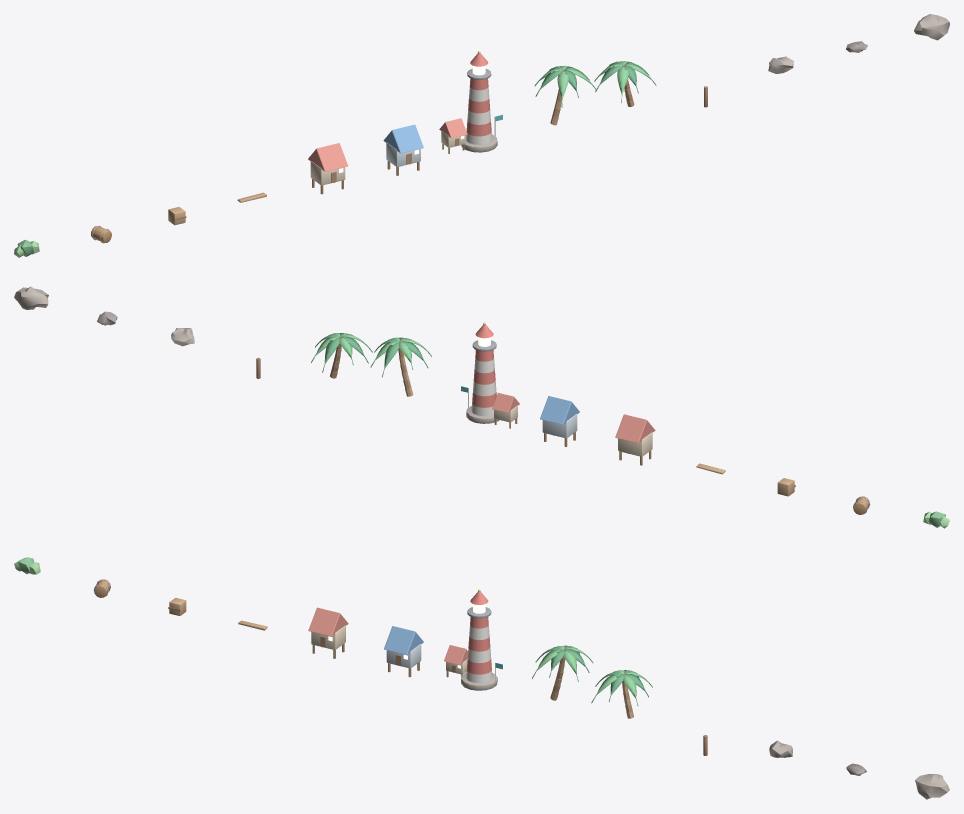
The model's file is szokoar-props.1def8526f4.glb.
The picture shows the model from 3 angles, top to bottom: view 1: azimuth 30°, elevation 25°; view 2: azimuth 150°, elevation 25°; view 3: azimuth 330°, elevation 25°; orthographic projection.
Parts seen in each view (by area): view 1: lighthouse_mesh, hut_a_mesh, hut_b_mesh, palm_a_mesh, palm_b_mesh, rock_c_mesh; view 2: lighthouse_mesh, hut_b_mesh, hut_a_mesh, palm_a_mesh, palm_b_mesh, rock_c_mesh; view 3: lighthouse_mesh, hut_b_mesh, hut_a_mesh, palm_a_mesh, palm_b_mesh, rock_c_mesh.
Part boxes in pixels (box(x1,y1,x2,y2)): lighthouse_mesh: box(439, 51, 502, 153); hut_a_mesh: box(308, 143, 347, 194); hut_b_mesh: box(383, 124, 423, 175); palm_a_mesh: box(534, 65, 596, 125); palm_b_mesh: box(594, 61, 656, 106); rock_c_mesh: box(914, 14, 949, 40); lighthouse_mesh: box(461, 322, 519, 428); hut_b_mesh: box(540, 396, 579, 446); hut_a_mesh: box(615, 414, 655, 465); palm_a_mesh: box(370, 337, 431, 396); palm_b_mesh: box(311, 333, 372, 378); rock_c_mesh: box(14, 286, 48, 309); lighthouse_mesh: box(444, 589, 502, 690); hut_b_mesh: box(384, 626, 423, 677); hut_a_mesh: box(308, 607, 348, 658); palm_a_mesh: box(532, 645, 593, 700); palm_b_mesh: box(591, 670, 652, 718); rock_c_mesh: box(915, 774, 949, 799).
Bounding box in the file's own units: 49.49 × 5.62 × 3.03.
